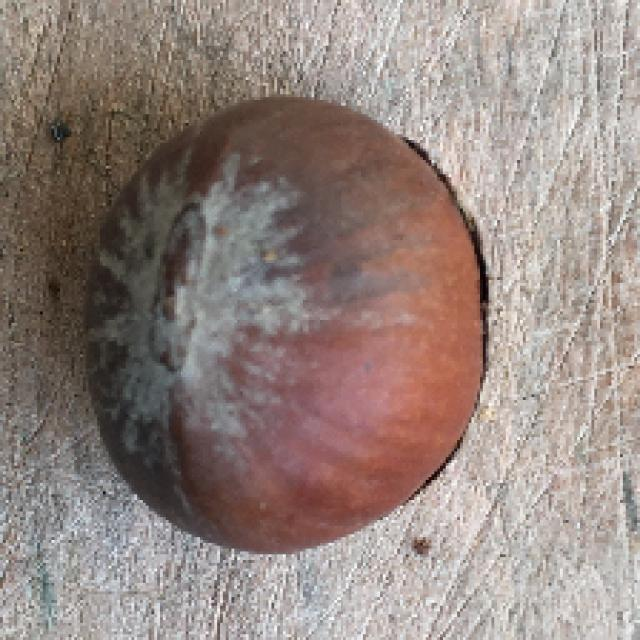qualityHazelnut: (74, 91, 502, 566)
